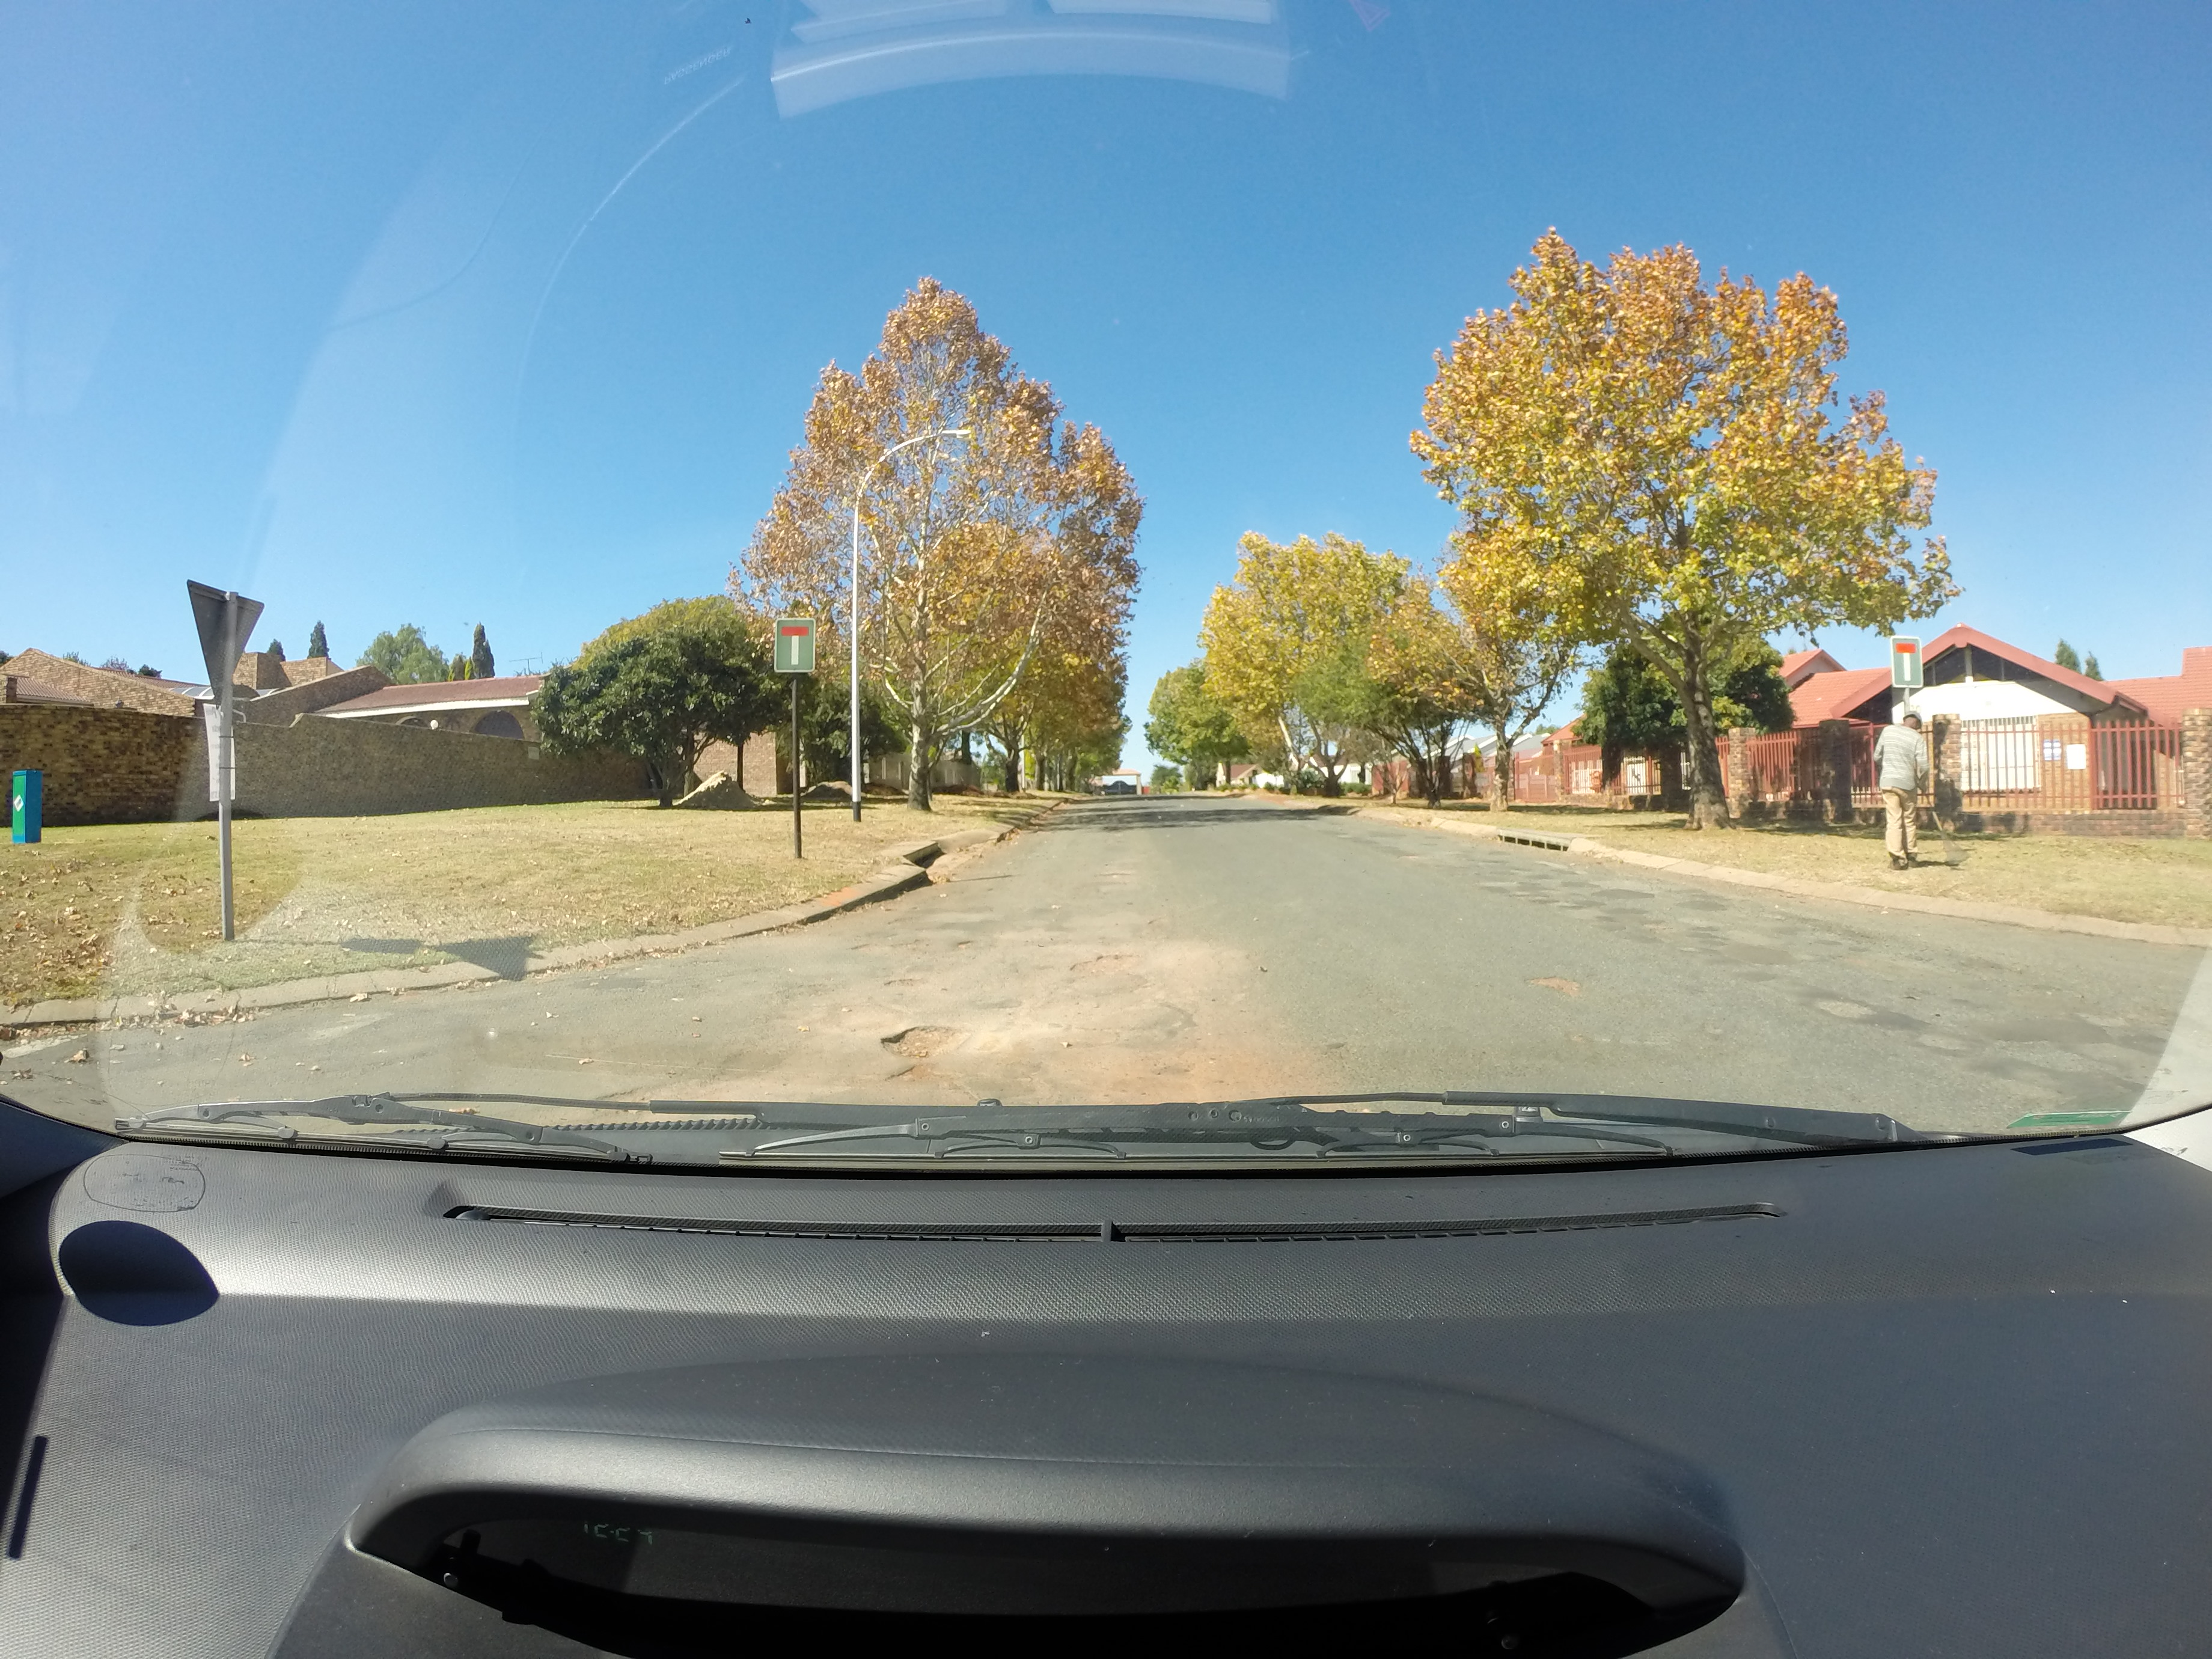pothole: (867, 1018, 960, 1058)
